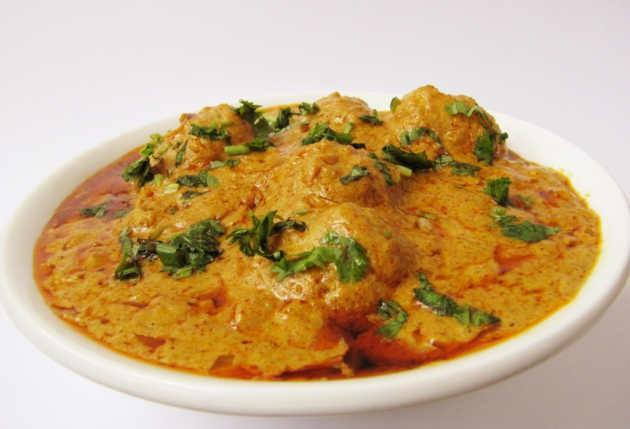DumAloo: (31, 82, 602, 382)
